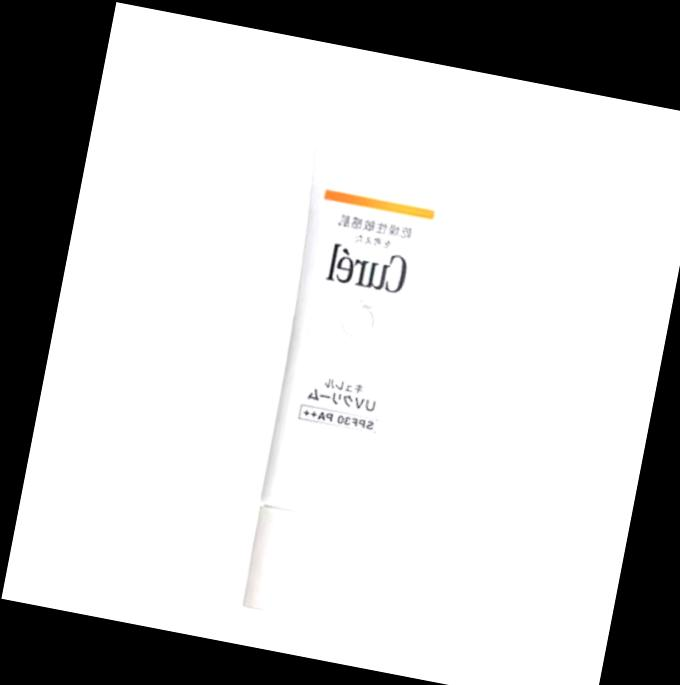cosmetic: (221, 104, 477, 631)
